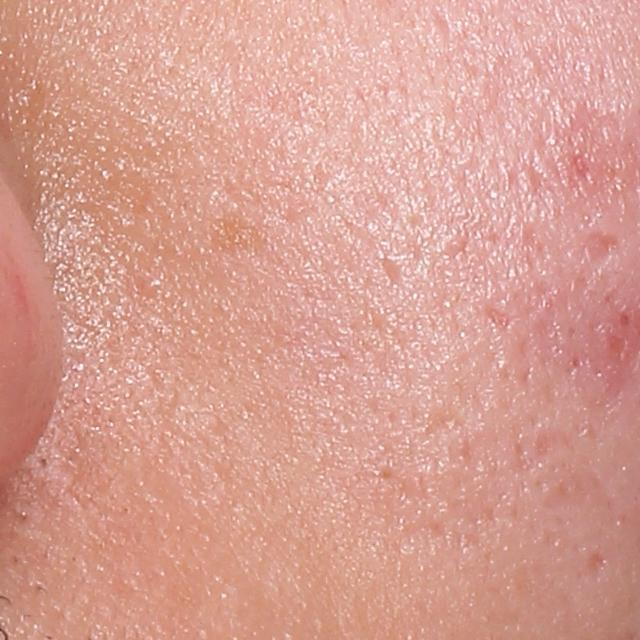atrophic_scar: (578, 234, 621, 274), (377, 246, 410, 293), (575, 543, 610, 584)
